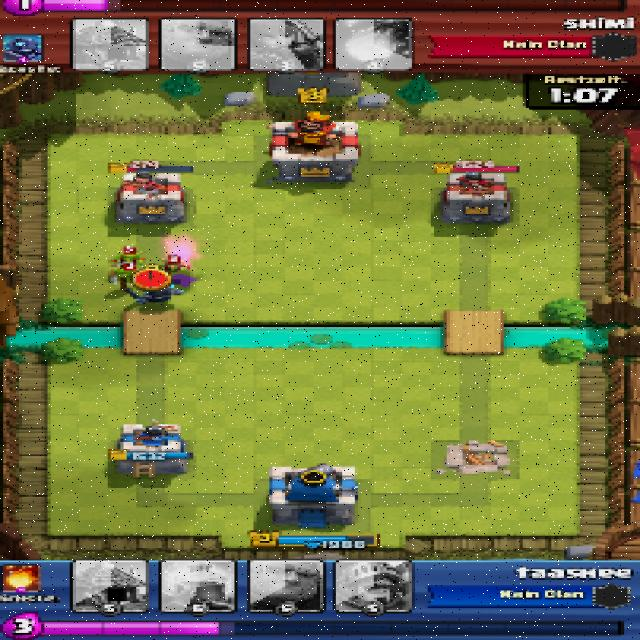Enemy-Goblin: (108, 249, 146, 269), (155, 260, 192, 278), (105, 265, 137, 280)
Player-MiniPEKKA: (122, 283, 179, 305)
